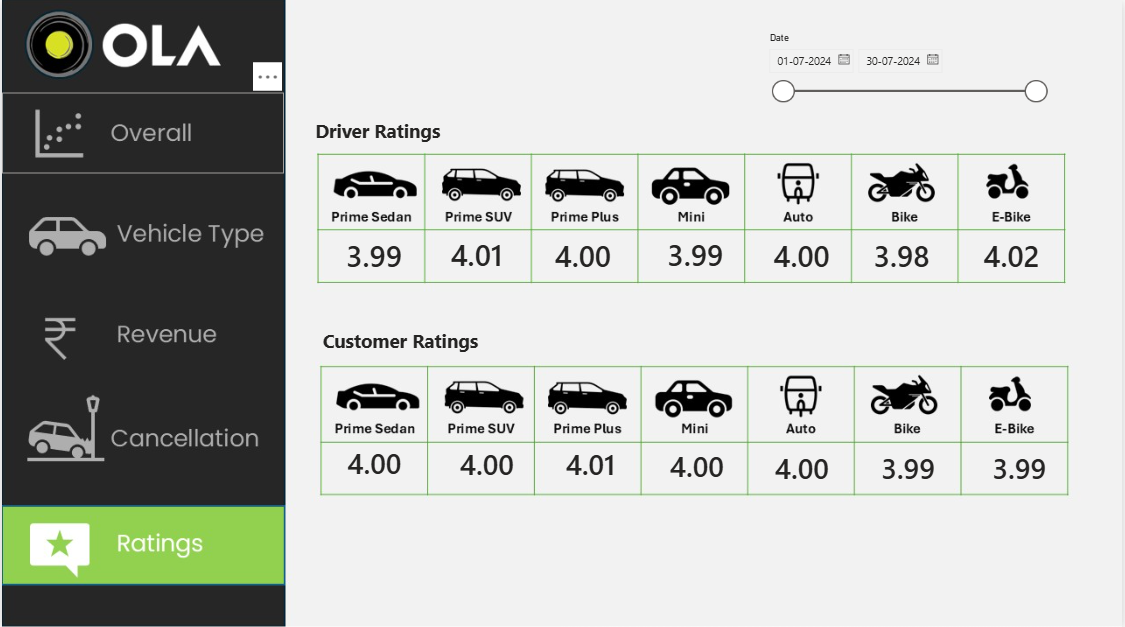

The dashboard page shown, as its layout file describes it:
{"tool":"powerbi","page":{"name":"Rating","canvas":[1280,720],"ordinal":4},"visuals":[{"type":"actionButton","box":[0,225.1,321.7,92.3],"z":0},{"type":"actionButton","box":[0,336.6,321.7,92.3],"z":1000},{"type":"actionButton","box":[0,458.4,321.7,92.3],"z":2000},{"type":"actionButton","box":[0,576.7,321.7,92.3],"z":3000},{"type":"actionButton","box":[0,106.2,321.7,92.3],"z":4000},{"type":"cardVisual","fields":{"Data":["Avg(Booking_csv.Driver_Ratings)"]},"box":[361.7,253.3,128.3,75],"z":5000},{"type":"cardVisual","fields":{"Data":["Avg(Booking_csv.Driver_Ratings)"]},"box":[470,241.7,145,95],"z":6000},{"type":"cardVisual","fields":{"Data":["Avg(Booking_csv.Driver_Ratings)"]},"box":[591.7,243.3,145,95],"z":7000},{"type":"cardVisual","fields":{"Data":["Avg(Booking_csv.Driver_Ratings)"]},"box":[720,241.7,145,95],"z":8000},{"type":"cardVisual","fields":{"Data":["Avg(Booking_csv.Driver_Ratings)"]},"box":[841.7,243.3,145,95],"z":9000},{"type":"cardVisual","fields":{"Data":["Avg(Booking_csv.Driver_Ratings)"]},"box":[955,243.3,145,95],"z":10000},{"type":"cardVisual","fields":{"Data":["Avg(Booking_csv.Driver_Ratings)"]},"box":[1081.7,243.3,145,95],"z":11000},{"type":"cardVisual","fields":{"Data":["Avg(Booking_csv.Customer_Rating)"]},"box":[361.7,490,128.3,75],"z":12000},{"type":"cardVisual","fields":{"Data":["Avg(Booking_csv.Customer_Rating)"]},"box":[490,491.7,128.3,75],"z":13000},{"type":"cardVisual","fields":{"Data":["Avg(Booking_csv.Customer_Rating)"]},"box":[608.3,491.7,128.3,75],"z":14000},{"type":"cardVisual","fields":{"Data":["Avg(Booking_csv.Customer_Rating)"]},"box":[730,493.3,128.3,75],"z":15000},{"type":"cardVisual","fields":{"Data":["Avg(Booking_csv.Customer_Rating)"]},"box":[850,495,128.3,75],"z":16000},{"type":"cardVisual","fields":{"Data":["Avg(Booking_csv.Customer_Rating)"]},"box":[971.7,495,128.3,75],"z":17000},{"type":"cardVisual","fields":{"Data":["Avg(Booking_csv.Customer_Rating)"]},"box":[1098.3,495,128.3,75],"z":18000},{"type":"textbox","box":[353.3,130,211.7,45],"z":19000},{"type":"textbox","box":[361.9,370.4,191.8,41],"z":20000},{"type":"slicer","title":"Booking status breakdown","fields":{"Values":["Booking_csv.Date"]},"box":[864.7,31.3,348.4,120.9],"z":21000}]}

Visuals, with their boxes on the page's 1280x720 design canvas (x1, y1, x2, y2). These are canvas units, not pixel positions in the 1125x627 screenshot, which may show the page scaled, cropped or inside an application window:
actionButton: <region>0, 225, 322, 317</region>
actionButton: <region>0, 337, 322, 429</region>
actionButton: <region>0, 458, 322, 551</region>
actionButton: <region>0, 577, 322, 669</region>
actionButton: <region>0, 106, 322, 198</region>
cardVisual - Avg(Booking_csv.Driver_Ratings): <region>362, 253, 490, 328</region>
cardVisual - Avg(Booking_csv.Driver_Ratings): <region>470, 242, 615, 337</region>
cardVisual - Avg(Booking_csv.Driver_Ratings): <region>592, 243, 737, 338</region>
cardVisual - Avg(Booking_csv.Driver_Ratings): <region>720, 242, 865, 337</region>
cardVisual - Avg(Booking_csv.Driver_Ratings): <region>842, 243, 987, 338</region>
cardVisual - Avg(Booking_csv.Driver_Ratings): <region>955, 243, 1100, 338</region>
cardVisual - Avg(Booking_csv.Driver_Ratings): <region>1082, 243, 1227, 338</region>
cardVisual - Avg(Booking_csv.Customer_Rating): <region>362, 490, 490, 565</region>
cardVisual - Avg(Booking_csv.Customer_Rating): <region>490, 492, 618, 567</region>
cardVisual - Avg(Booking_csv.Customer_Rating): <region>608, 492, 737, 567</region>
cardVisual - Avg(Booking_csv.Customer_Rating): <region>730, 493, 858, 568</region>
cardVisual - Avg(Booking_csv.Customer_Rating): <region>850, 495, 978, 570</region>
cardVisual - Avg(Booking_csv.Customer_Rating): <region>972, 495, 1100, 570</region>
cardVisual - Avg(Booking_csv.Customer_Rating): <region>1098, 495, 1227, 570</region>
textbox: <region>353, 130, 565, 175</region>
textbox: <region>362, 370, 554, 411</region>
"Booking status breakdown" slicer: <region>865, 31, 1213, 152</region>
